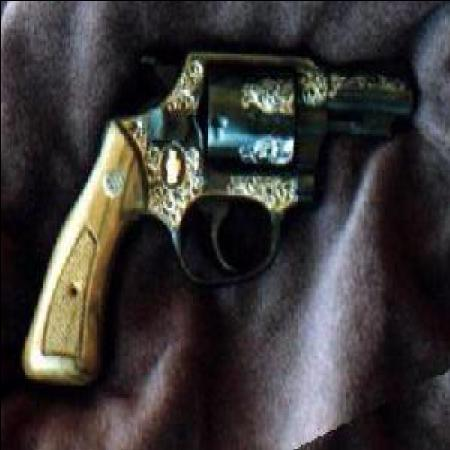Pistol: (15, 44, 413, 380)
